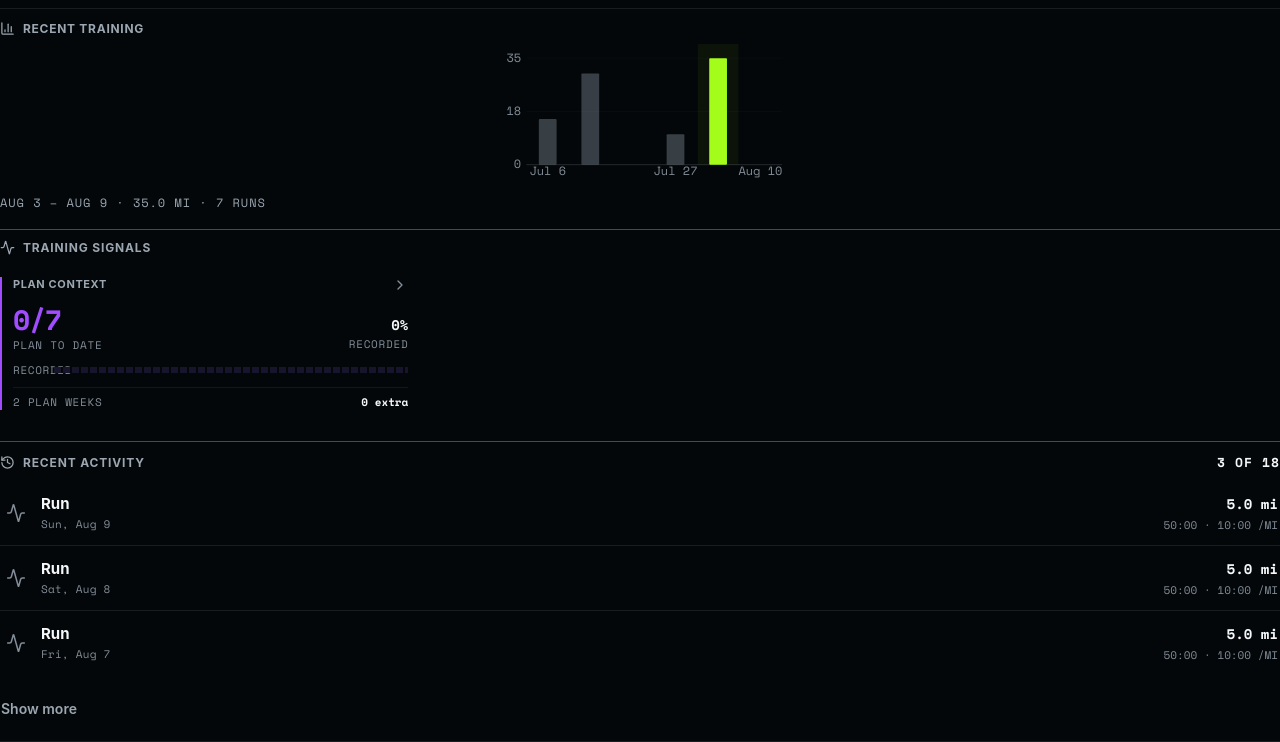
Test: Runs Overview and History Explorer boundary › keeps the preview newest-first and preserves run detail from the inline continuation
(page scrolled)
Click the button with aria-label "Show more recent runs".
click(47, 708)  # box x1=0 y1=686 x2=94 y2=730
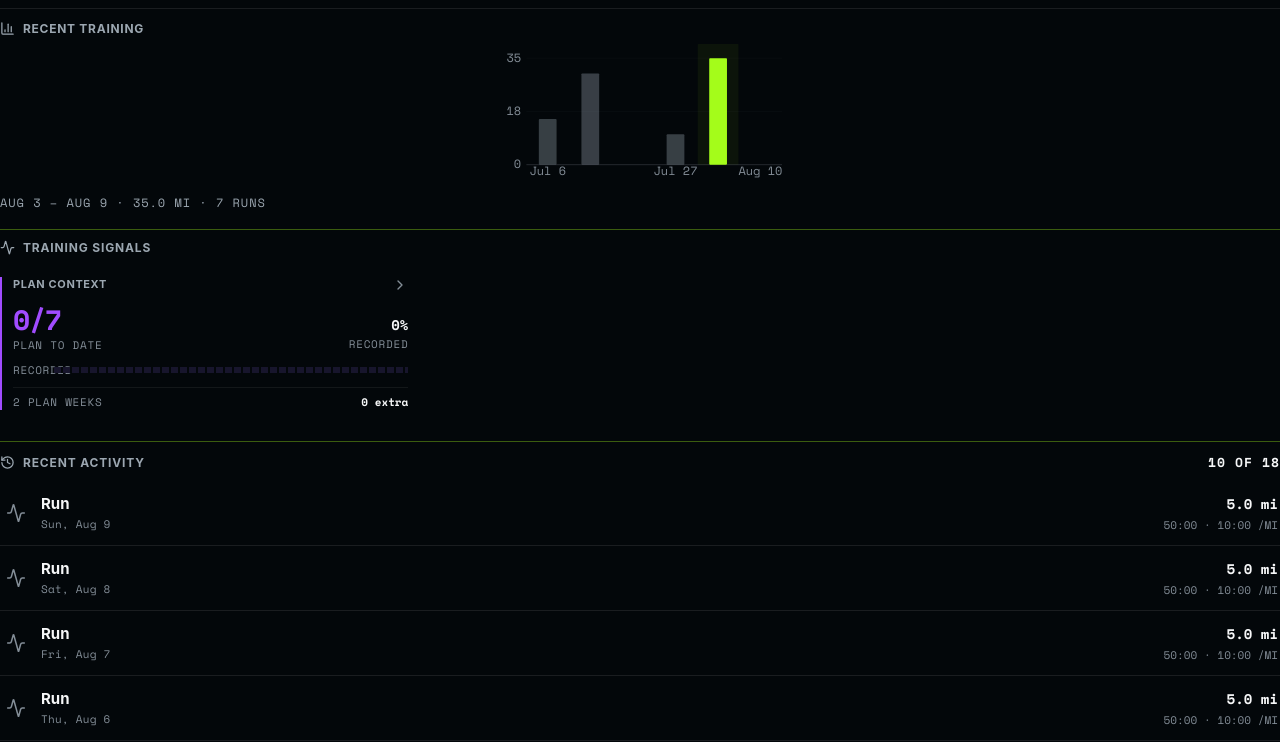
Click the button "Run Sun, Aug 9 5.0 mi 50:00 · 10:00 /MI".
click(76, 524)  # box x1=0 y1=481 x2=1279 y2=546
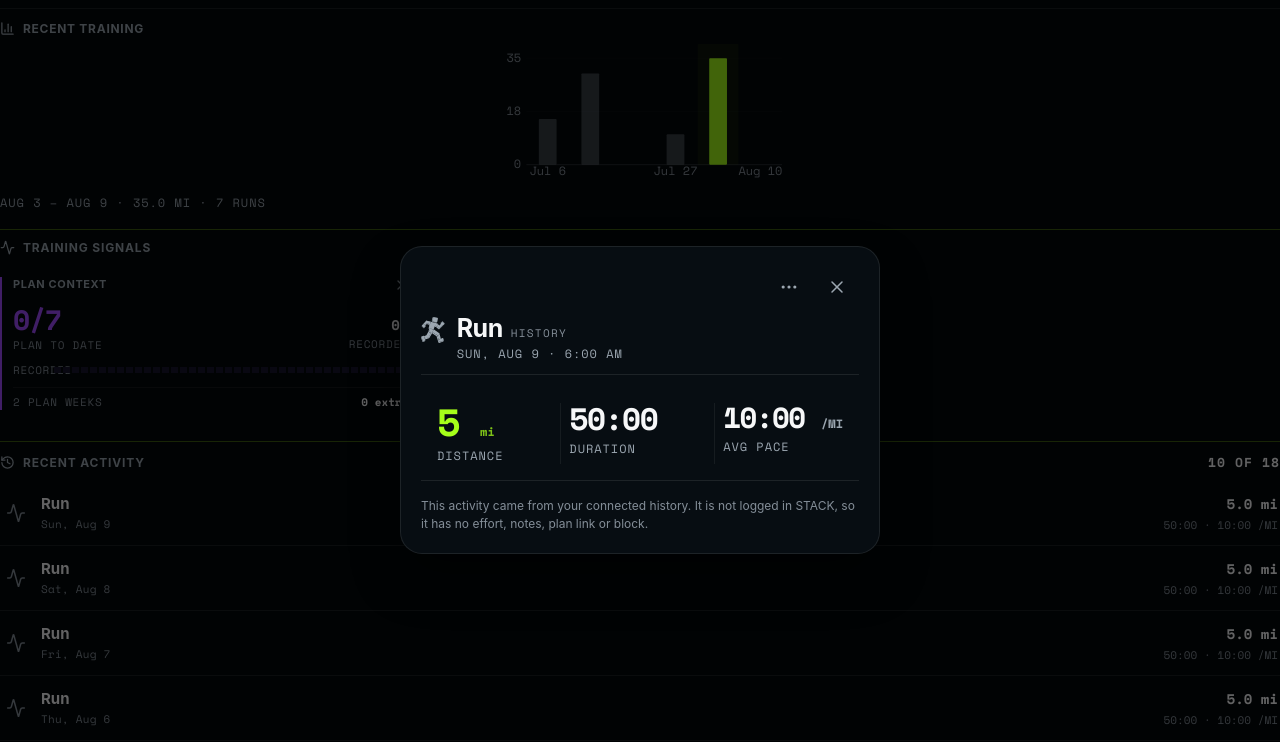
Expected: the dialog "Run" is shown, x1=400 y1=246 x2=880 y2=554
